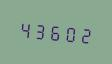four: (18, 16, 32, 41)
six: (48, 19, 62, 44)
three: (33, 18, 47, 43)
two: (78, 22, 92, 47)
zero: (63, 20, 77, 45)
